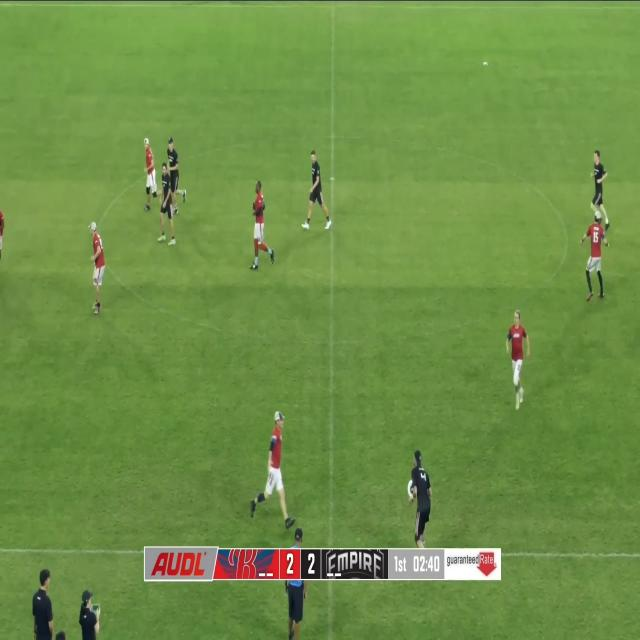Disc: (408, 480, 413, 498)
Player: (248, 410, 301, 531), (157, 154, 184, 243), (410, 448, 434, 546), (250, 180, 276, 270), (581, 212, 608, 298), (305, 151, 334, 231), (508, 311, 530, 409), (588, 150, 610, 228), (90, 222, 108, 316), (143, 139, 157, 206)
